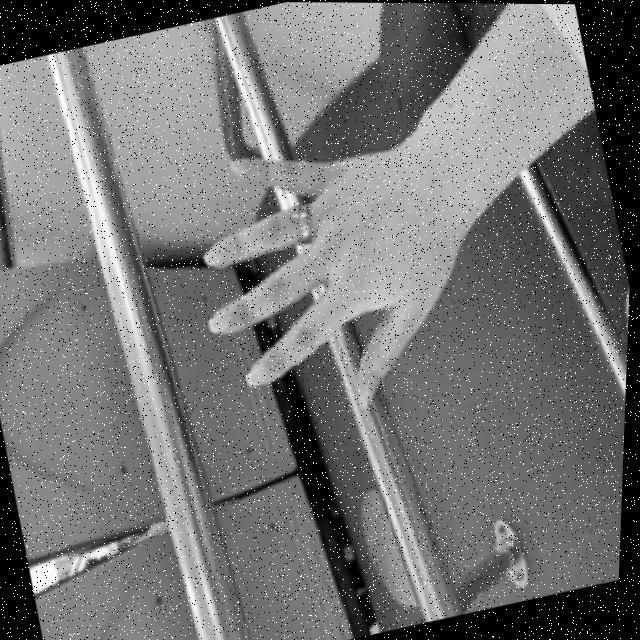no-gloves: (169, 112, 491, 443)
